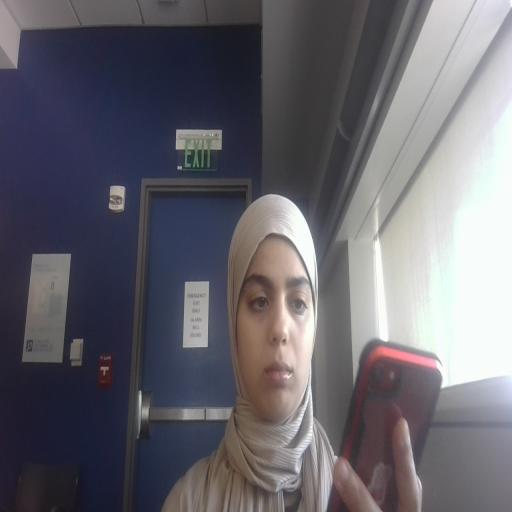phone: (331, 306, 460, 512)
